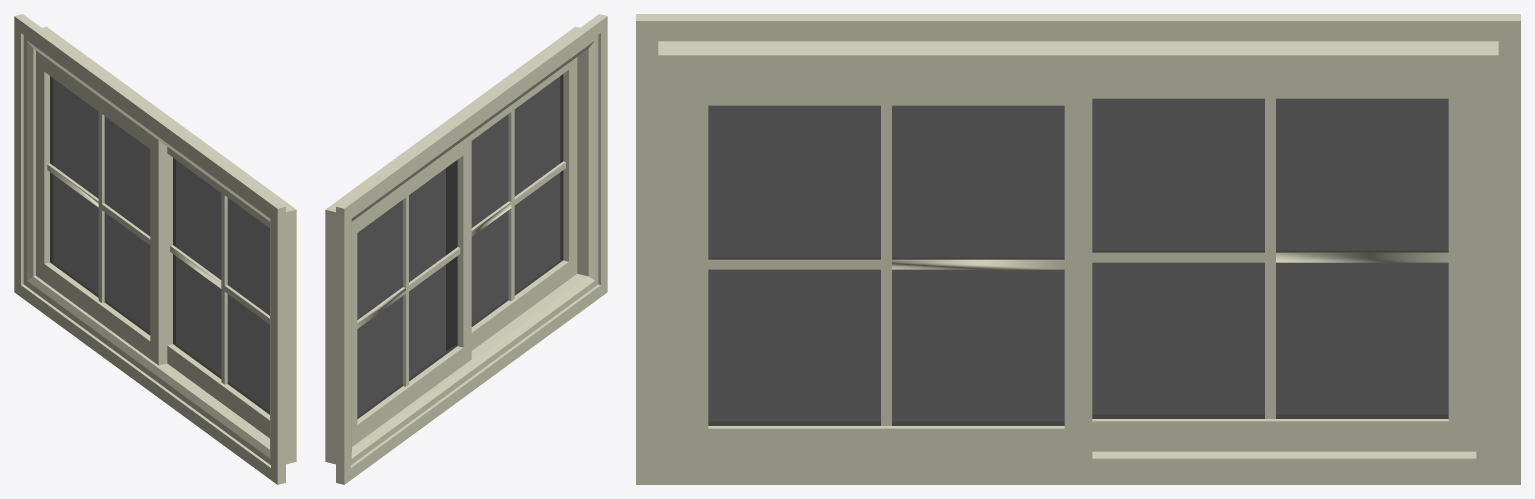
The picture shows the model from 3 angles, left to right: view 1: azimuth 30°, elevation 25°; view 2: azimuth 150°, elevation 25°; view 3: azimuth 270°, elevation 25°; orthographic projection. The views are drawn at different scales.
Visible parts, largest first — view 1: Mesh1_Component_1_1_Model.002; view 2: Mesh1_Component_1_1_Model.002; view 3: Mesh1_Component_1_1_Model.002.
Part boxes in pixels (bbox=[...]): Mesh1_Component_1_1_Model.002: bbox=[14, 14, 296, 484]; Mesh1_Component_1_1_Model.002: bbox=[325, 14, 607, 484]; Mesh1_Component_1_1_Model.002: bbox=[636, 14, 1520, 484].
Size of the model in its own units: 0.0566 by 0.5784 by 0.9996.
